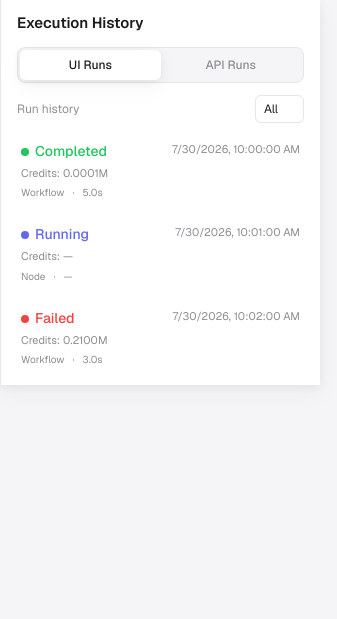
HistorySidebar › clicking a run fetches detail and renders node status, timing, I/O, provider
The image size is (337, 619).
expect the list with test id "history-list" is shown: met, box [9, 130, 312, 377]
Step 1. Click the button with test id "history-run-run_hist_1" → (71, 150), box [9, 130, 312, 210]
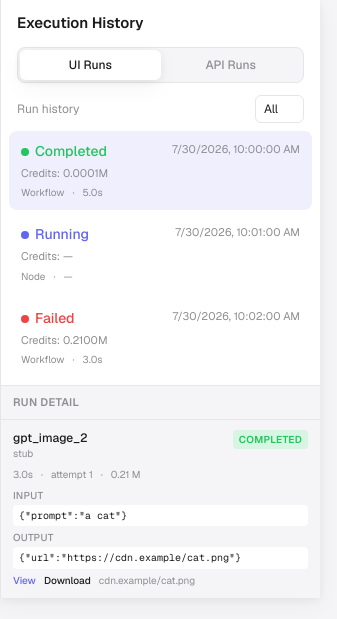
expect the element with test id "run-detail" is shown: met, box [1, 385, 320, 598]
expect the text with test id "run-detail-node-status" reads "completed": met, box [239, 432, 302, 446]
expect the text with test id "run-detail-node-provider" reads "stub": met, box [13, 446, 33, 460]
